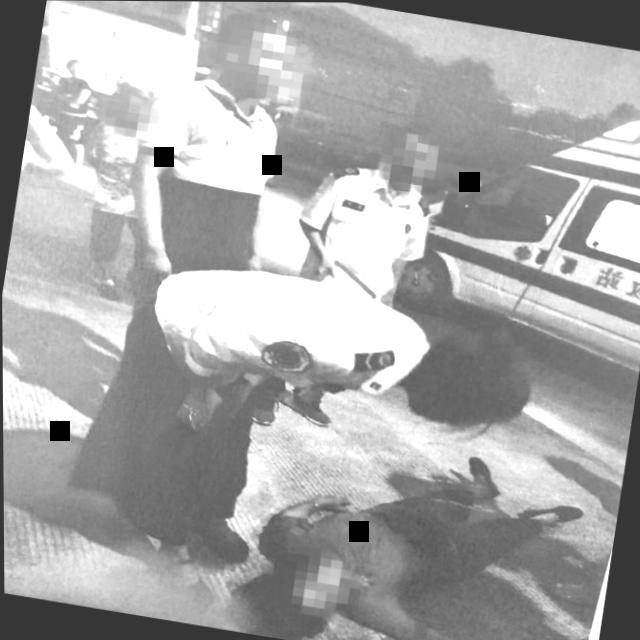Fall-Detected: (221, 413, 616, 640)
